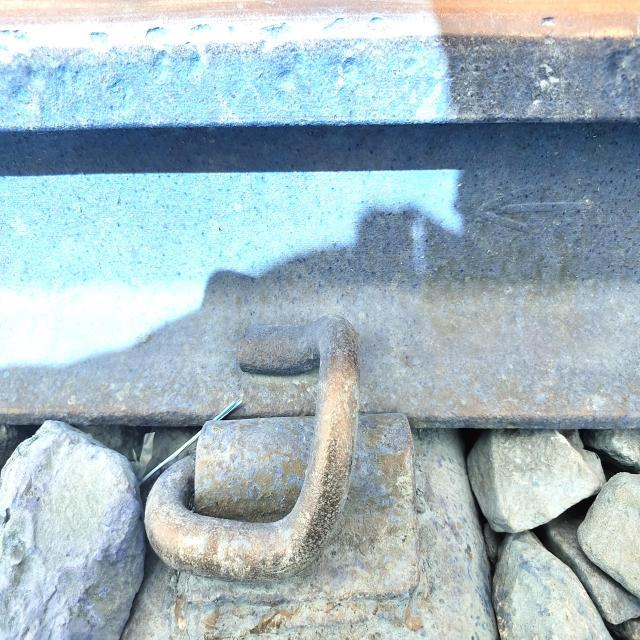Good Fasteners: (98, 275, 440, 640)
